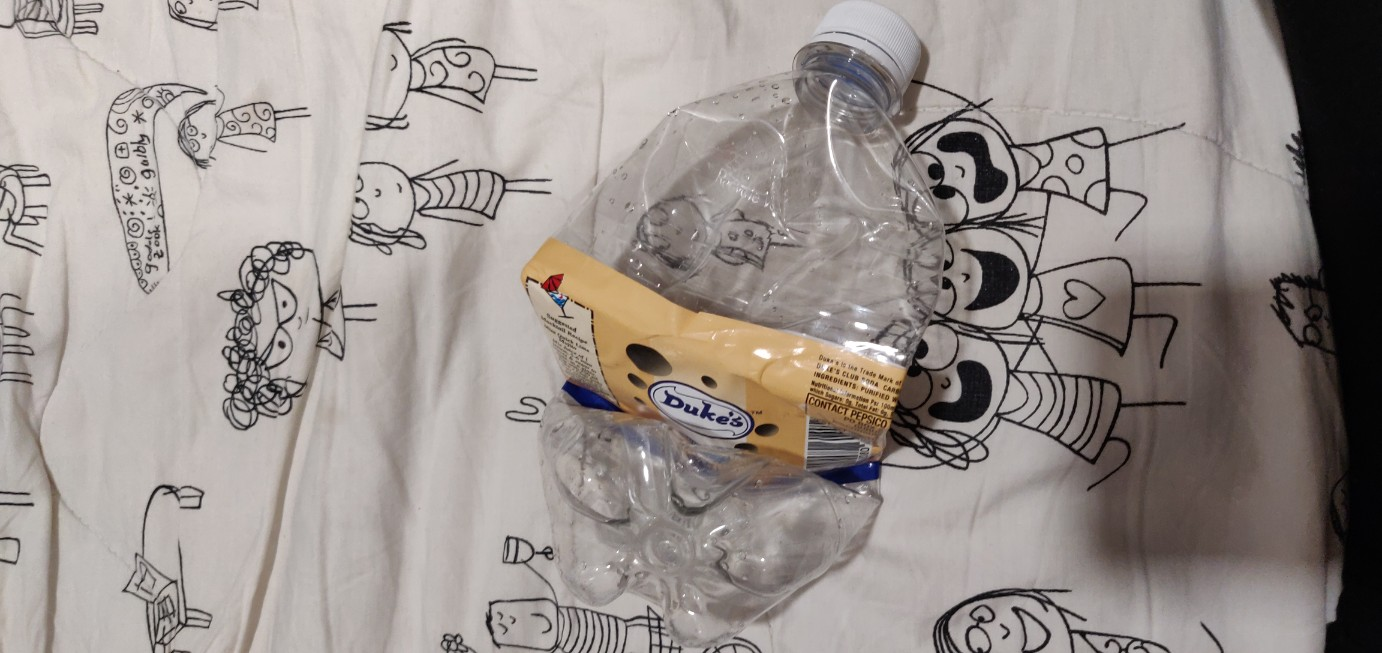Electronics: (499, 1, 1051, 644)
